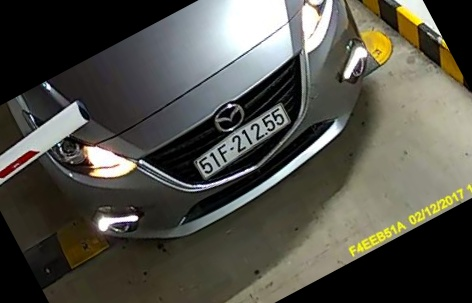plate: (194, 101, 292, 189)
